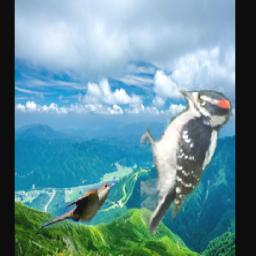Cuckoo: (40, 182, 116, 229)
Woodpecker: (141, 85, 234, 236)
